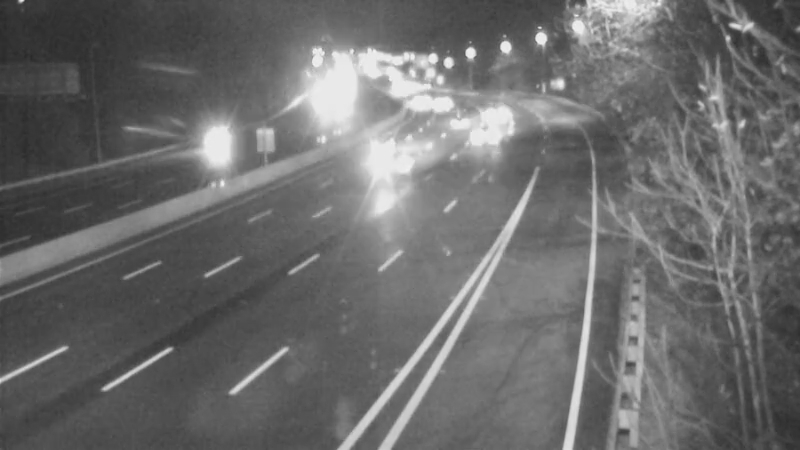vehicle: (365, 131, 445, 211), (416, 77, 466, 127), (386, 76, 436, 126), (434, 92, 484, 142), (465, 88, 515, 138), (453, 110, 503, 160), (358, 119, 408, 169), (191, 120, 241, 170)
